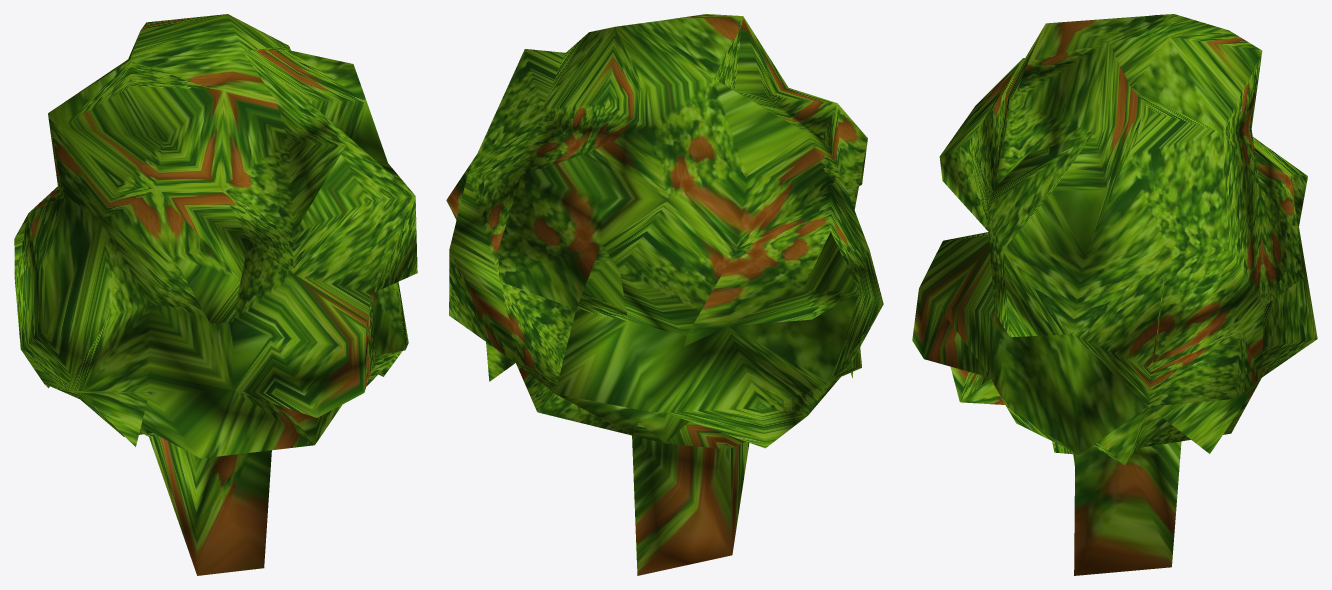
The model's file is tree-round-lod.glb.
The picture shows the model from 3 angles, left to right: view 1: azimuth 30°, elevation 25°; view 2: azimuth 150°, elevation 25°; view 3: azimuth 270°, elevation 25°; orthographic projection. The views are drawn at different scales.
Visible parts, largest first — view 1: tree-round-lod; view 2: tree-round-lod; view 3: tree-round-lod.
Part boxes in pixels (bbox=[...]): tree-round-lod: bbox=[14, 14, 417, 575]; tree-round-lod: bbox=[446, 14, 883, 575]; tree-round-lod: bbox=[912, 14, 1317, 575].
Size of the model in its own units: 6.2 by 7.89 by 5.33.
Materials: 1 (1 with a texture image).
